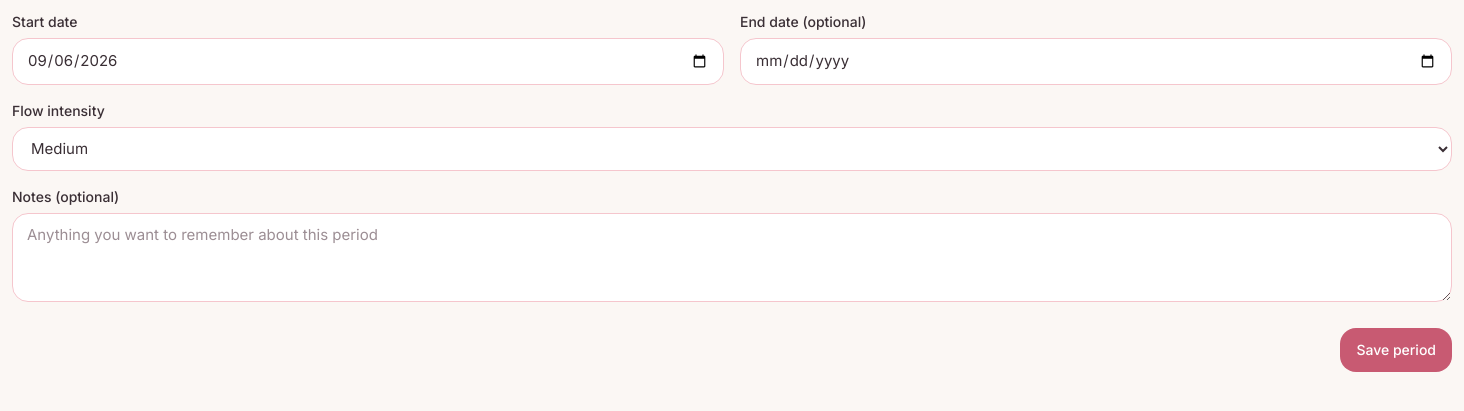
it: PeriodForm › rejects an end date before the start date
This screenshot has width=1464, height=411.
In the date field labelled "Start date": (368, 61) [12,38,724,84], type "2020-08-10"
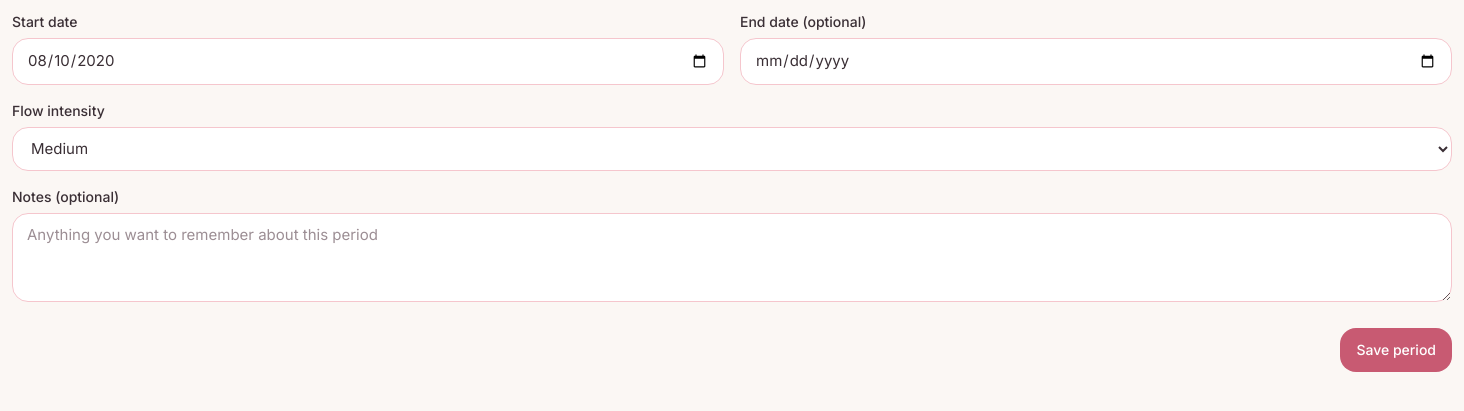
In the date field labelled "End date (optional)": (1096, 61) [740,38,1452,84], type "2020-08-01"
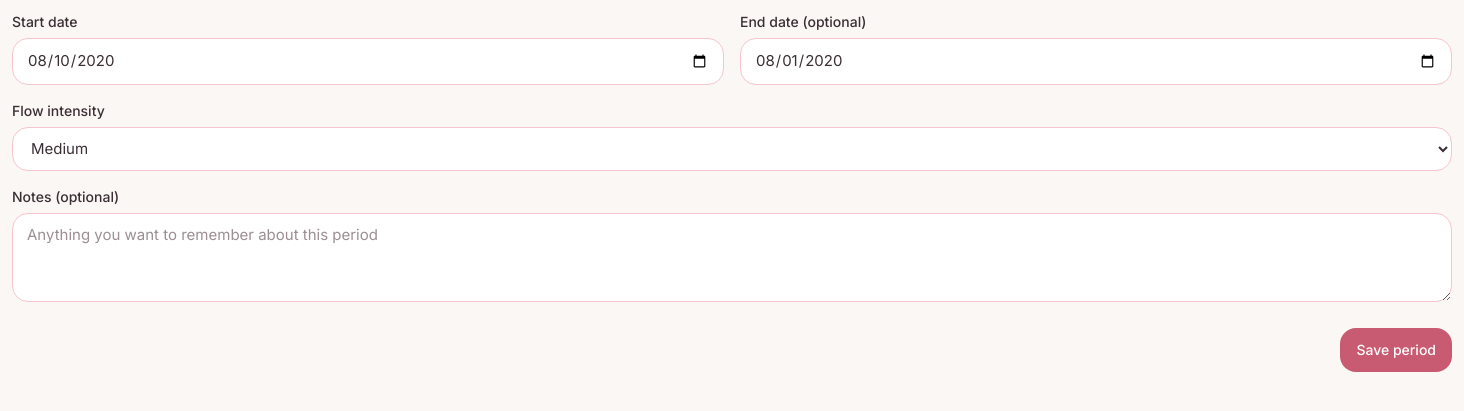
Click the button "Save period": (1396, 350) [1340,328,1452,372]
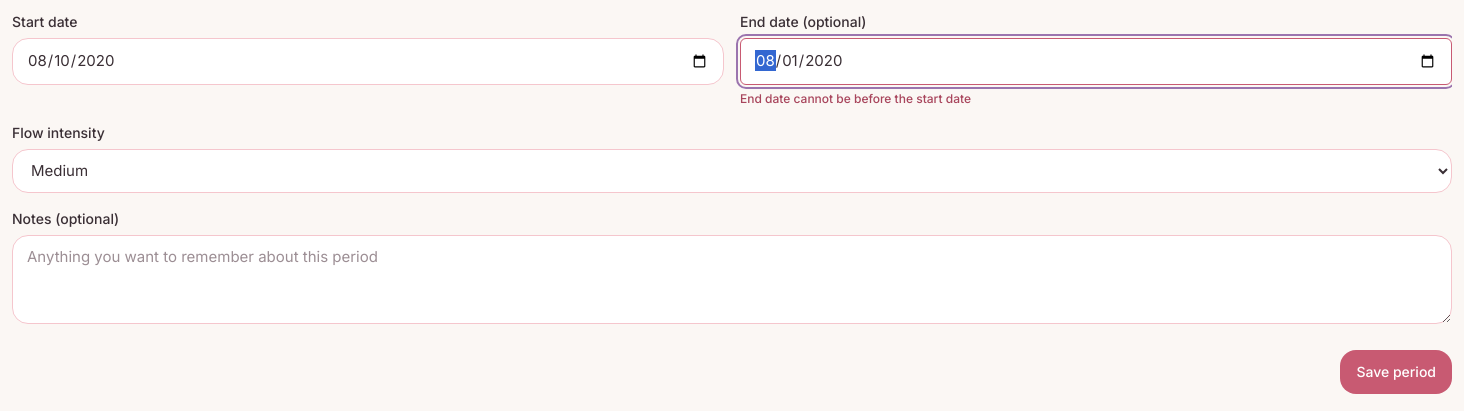
Result: the text "End date cannot be before the start date" is shown at [740,90,971,106]
